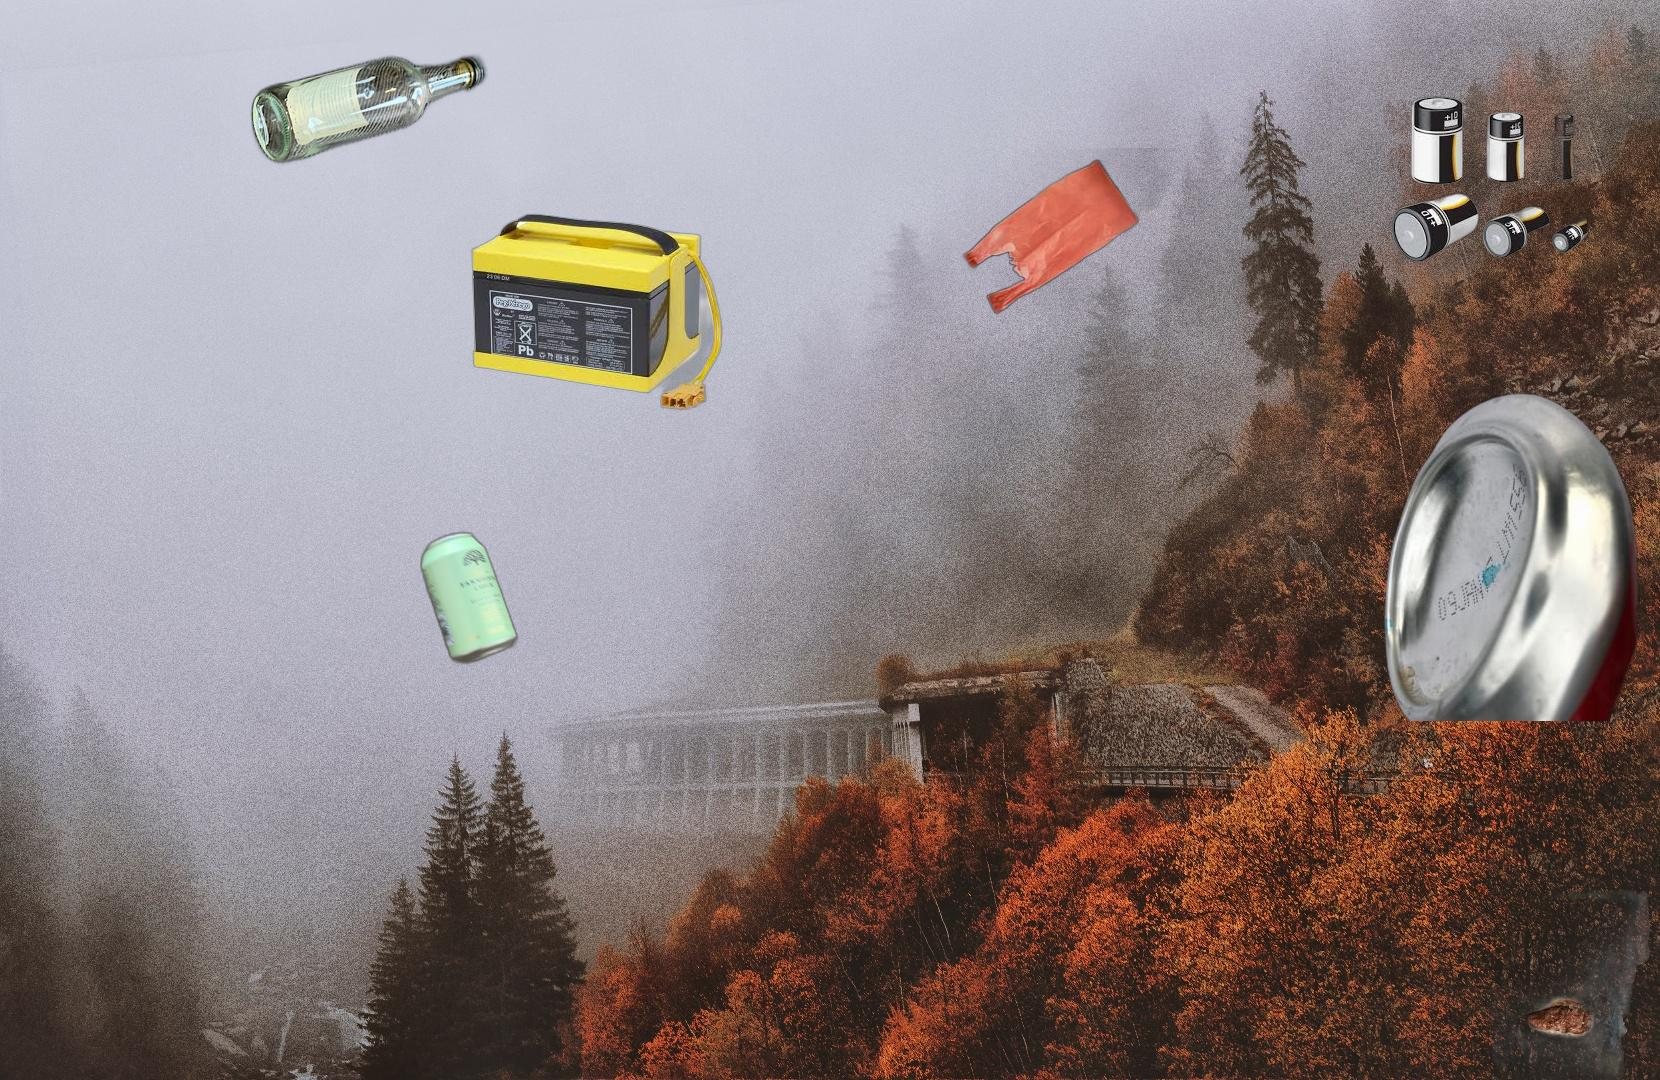battery: (469, 212, 724, 411), (1388, 94, 1587, 265)
glass: (247, 51, 490, 169)
metal-cans: (1379, 391, 1660, 721), (416, 526, 521, 670)
plastic-bag: (959, 148, 1246, 447)
trash: (1465, 874, 1658, 1080)
